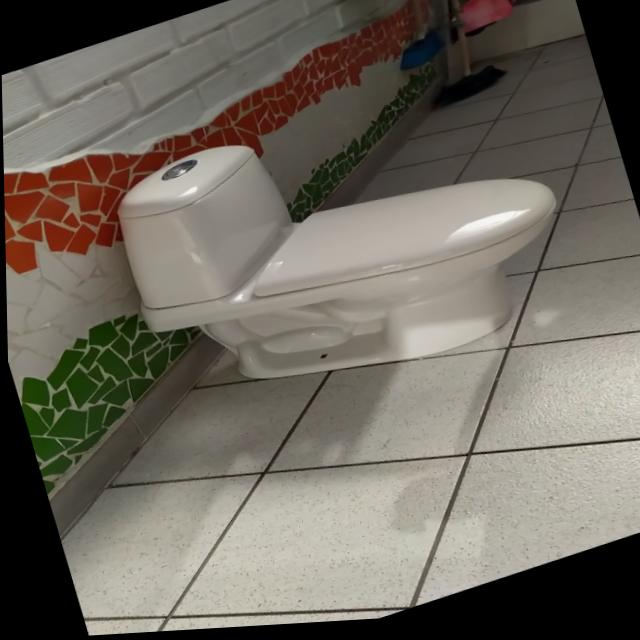toilet: (97, 51, 587, 445)
